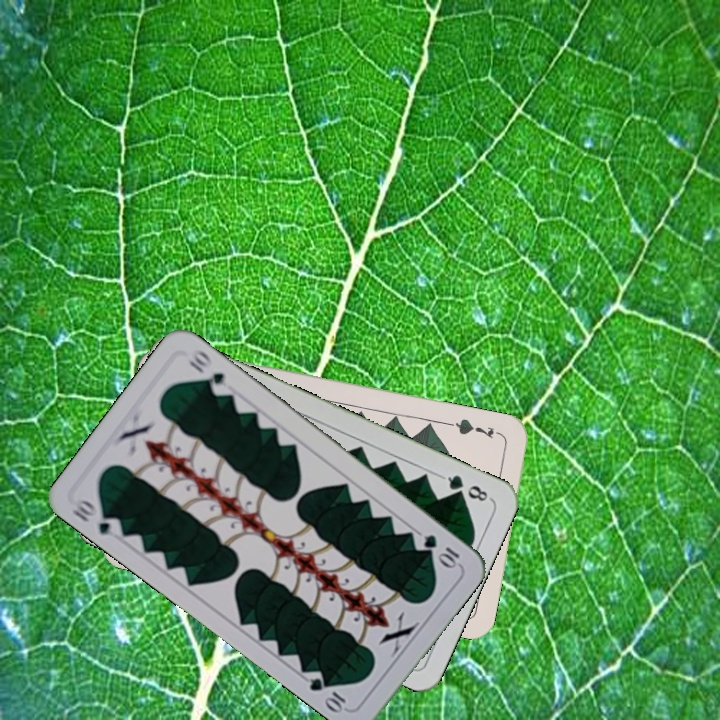G10: (68, 494, 125, 538), (419, 530, 462, 570)
G7: (447, 414, 506, 441)
G8: (438, 471, 493, 504)
